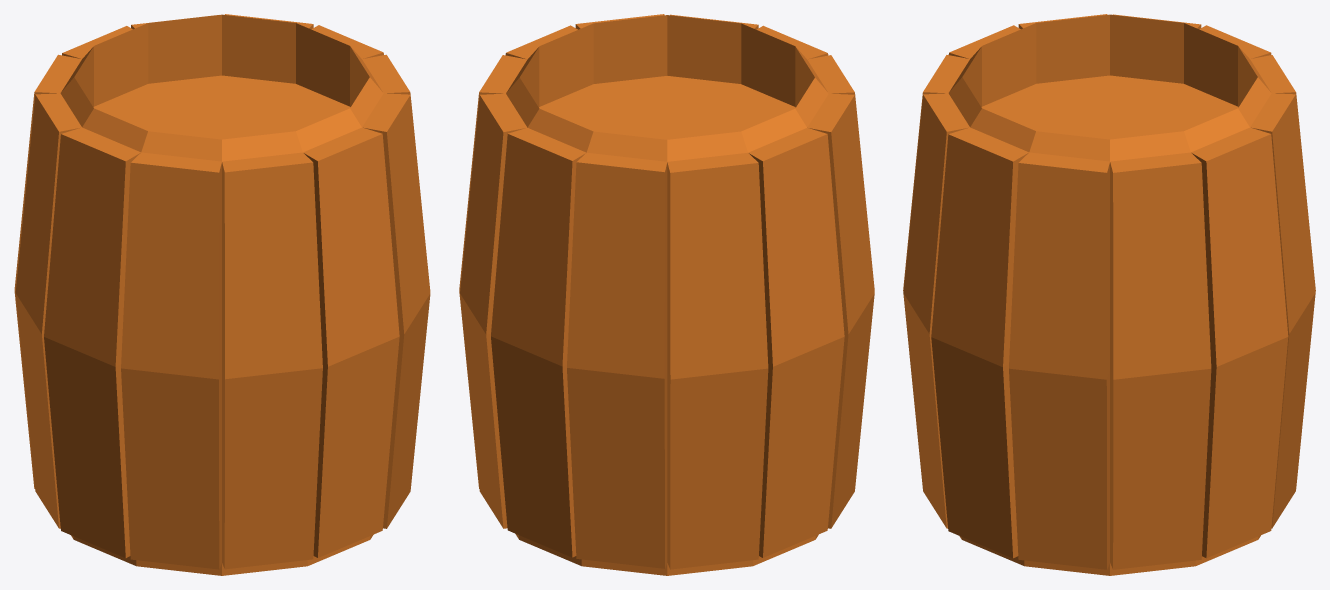
The model's file is barrel.fbx.
3 views of the same model, side by side, from view 1: azimuth 30°, elevation 25°; view 2: azimuth 150°, elevation 25°; view 3: azimuth 270°, elevation 25° (orthographic).
Visible parts, largest first — view 1: Cylinder; view 2: Cylinder; view 3: Cylinder.
Boxes of the visible parts, <box> form: Cylinder: <box>14,14,430,575</box>; Cylinder: <box>459,14,874,575</box>; Cylinder: <box>903,14,1315,575</box>.
Bounding box in the file's own units: 67.08 × 75.92 × 66.59.
